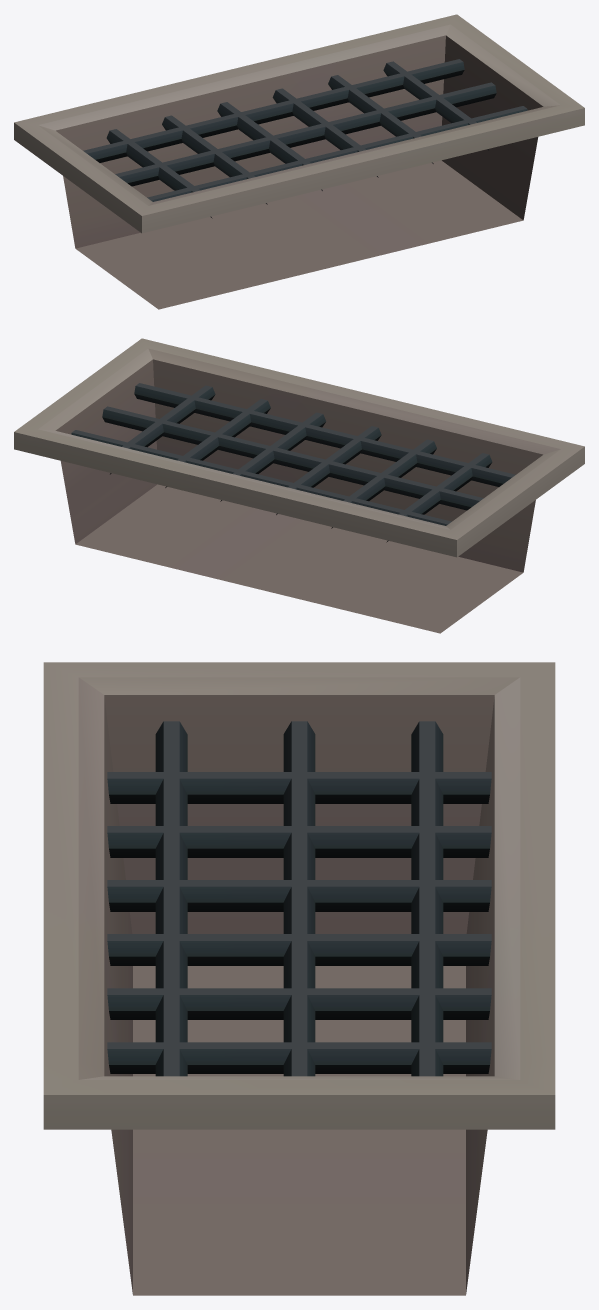
File: b_donjon_sol_grille.glb
3 renders of one model, top to bottom at view 1: azimuth 30°, elevation 25°; view 2: azimuth 150°, elevation 25°; view 3: azimuth 270°, elevation 25°, orthographic. The views are drawn at different scales.
Parts seen in each view (by area): view 1: b_donjon_sol_grille; view 2: b_donjon_sol_grille; view 3: b_donjon_sol_grille.
Part boxes in pixels (x1,y1,x2,y2): b_donjon_sol_grille: (14, 14, 584, 309); b_donjon_sol_grille: (14, 338, 584, 633); b_donjon_sol_grille: (43, 662, 555, 1295).
Size of the model in its own units: 4 by 1.03 by 2.
Materials: 1 (1 with a texture image).
